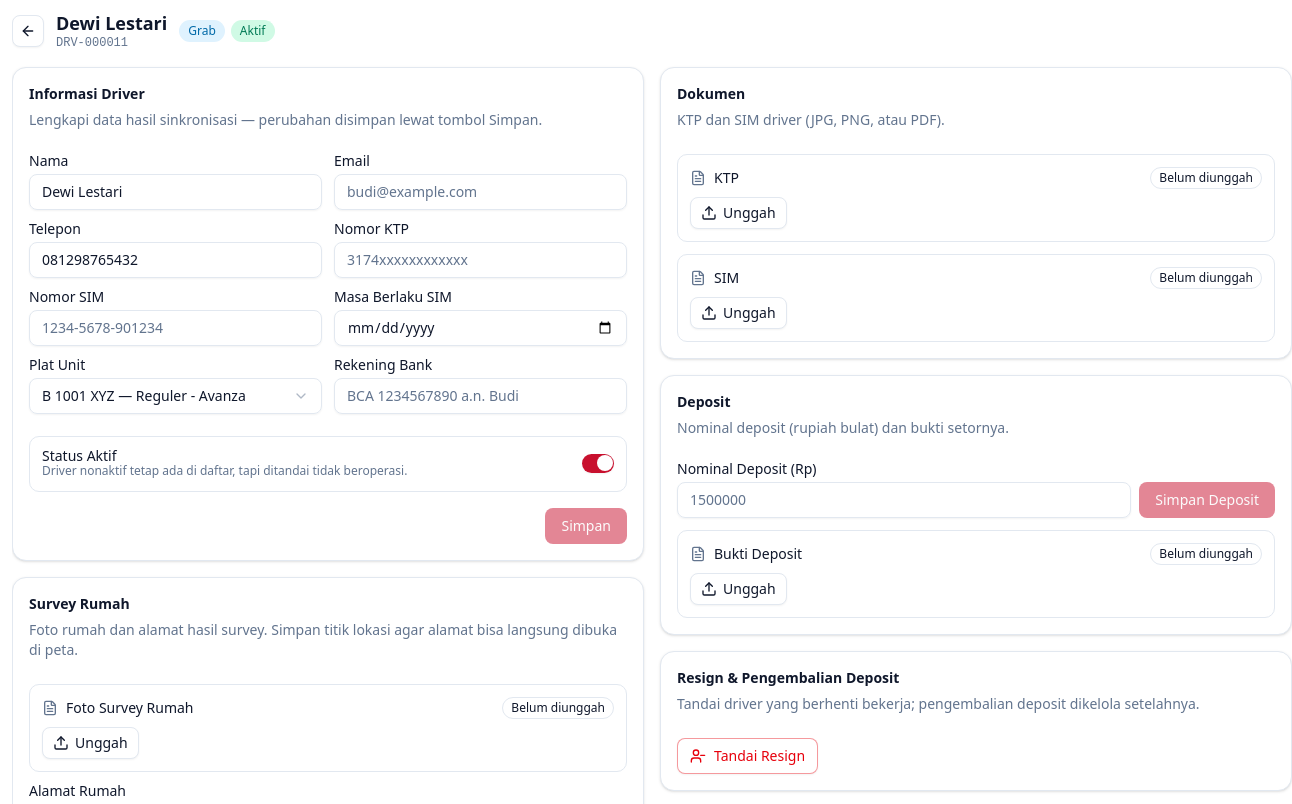
Halaman edit driver — informasi › saves master-data edits via PATCH and refreshes the header
Expected: the field labelled "Nama" holds "Dewi Lestari", [29,174,322,210]
Expected: the button "Simpan" is disabled, [546,508,627,544]
Type "dewi@example.com" into the field labelled "Email" at point(480, 192), box [334,174,627,210]
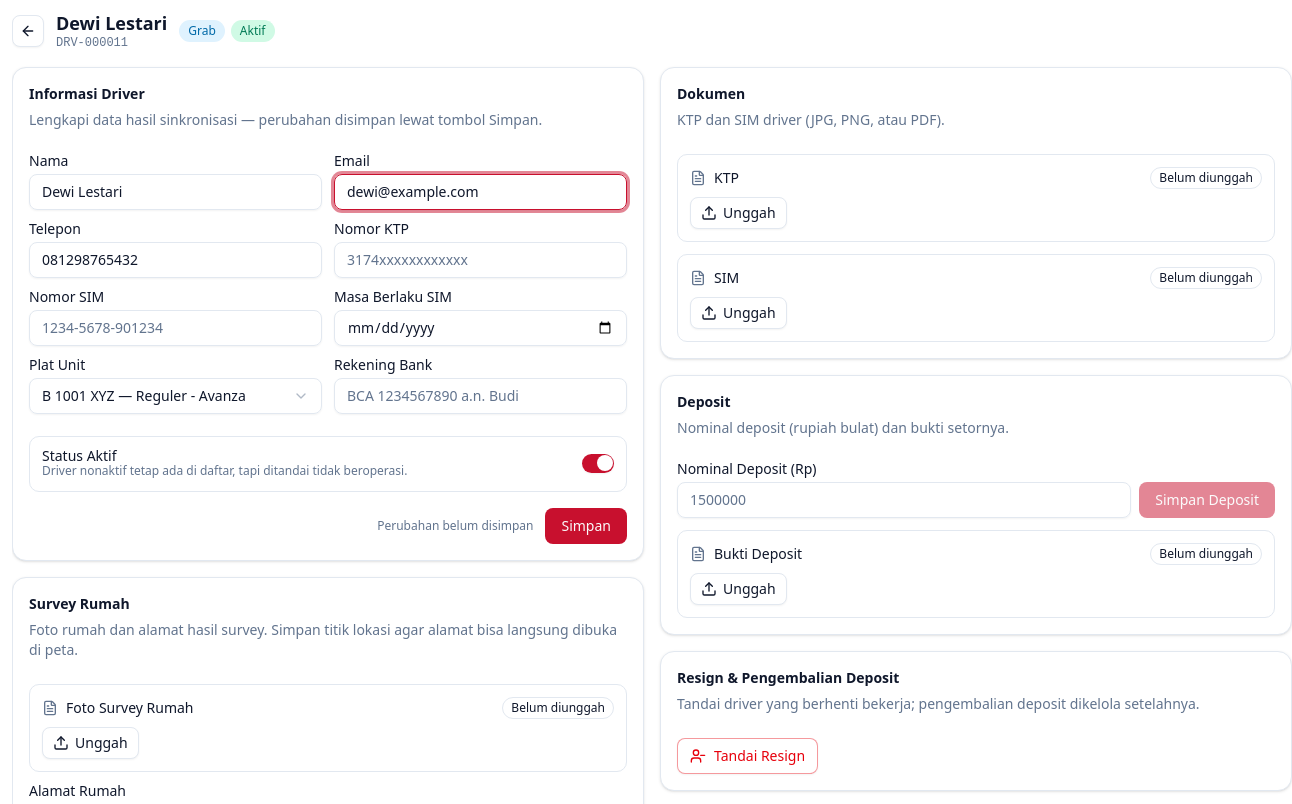
Replace the text in the field labelled "Nama" with "Dewi Lestari Putri" at point(176, 192), box [29,174,322,210]
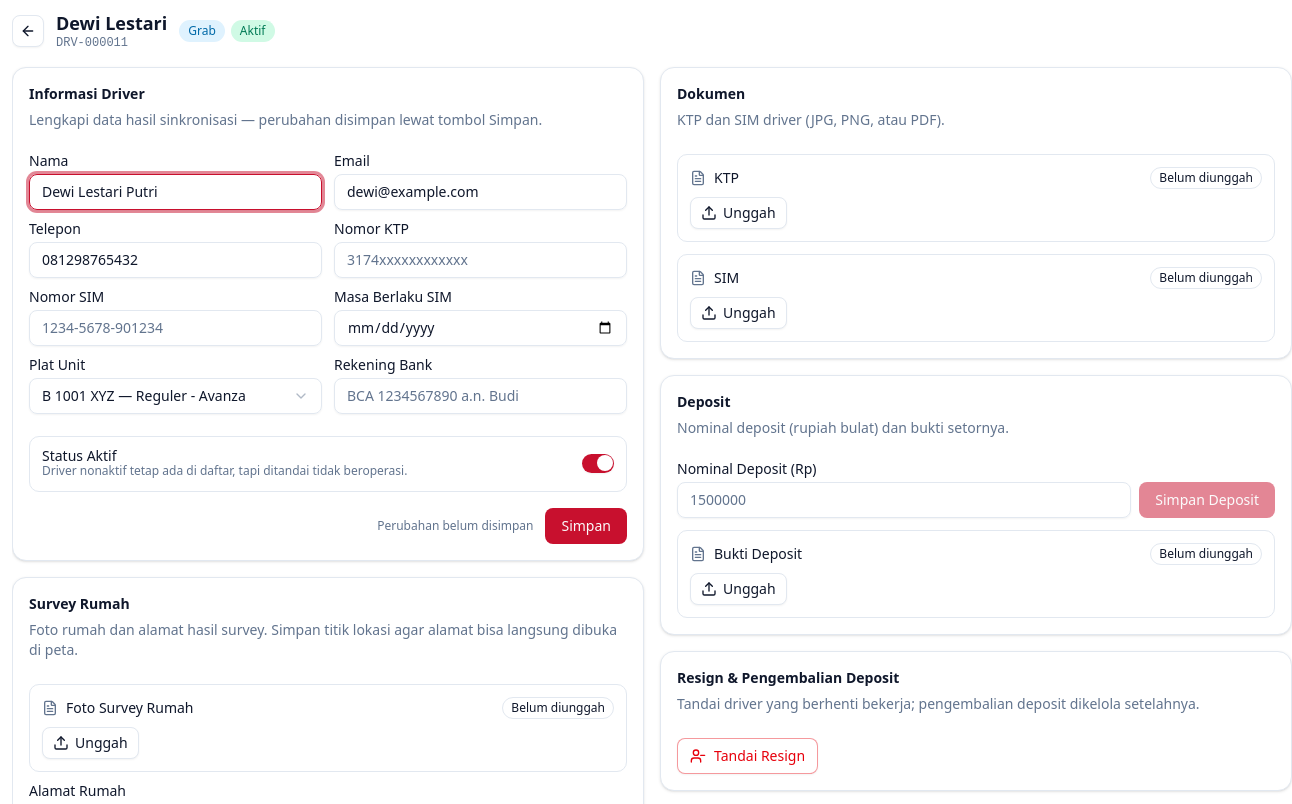
Click the button "Simpan" at point(586, 526), box [546,508,627,544]
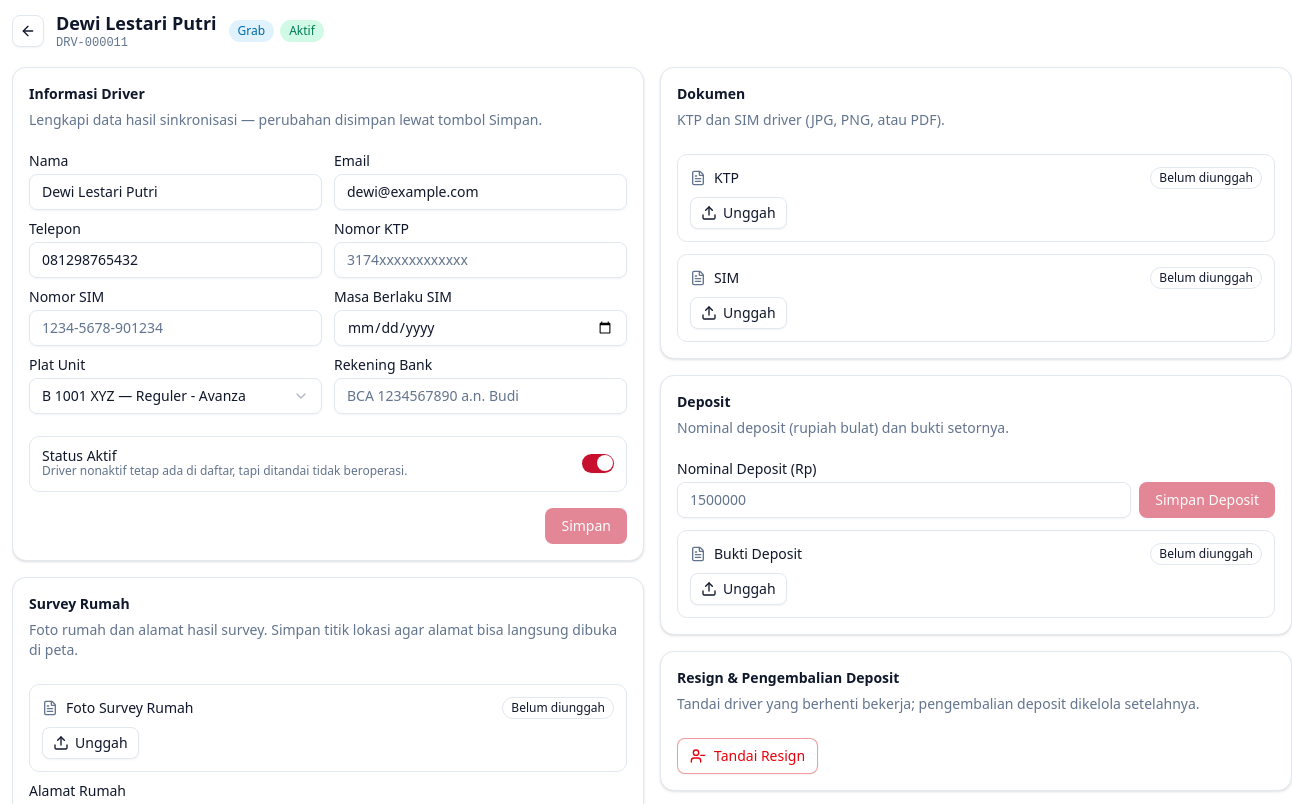
Expected: the heading "Dewi Lestari Putri" is shown, [56,12,217,34]
Expected: the button "Simpan" is disabled, [546,508,627,544]
